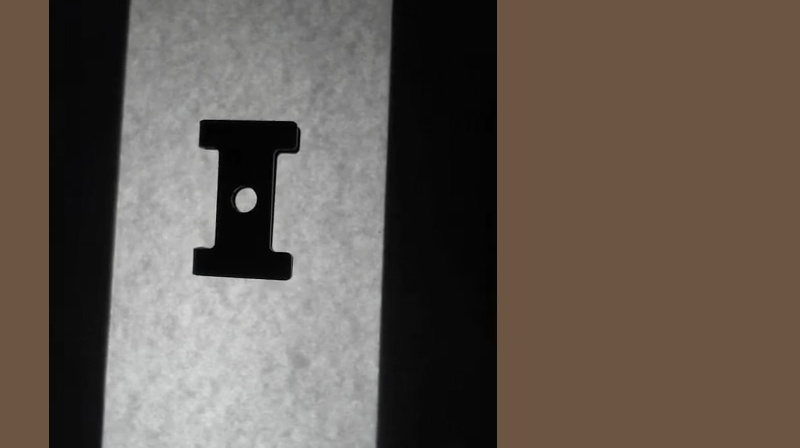O002: (189, 113, 306, 281)
